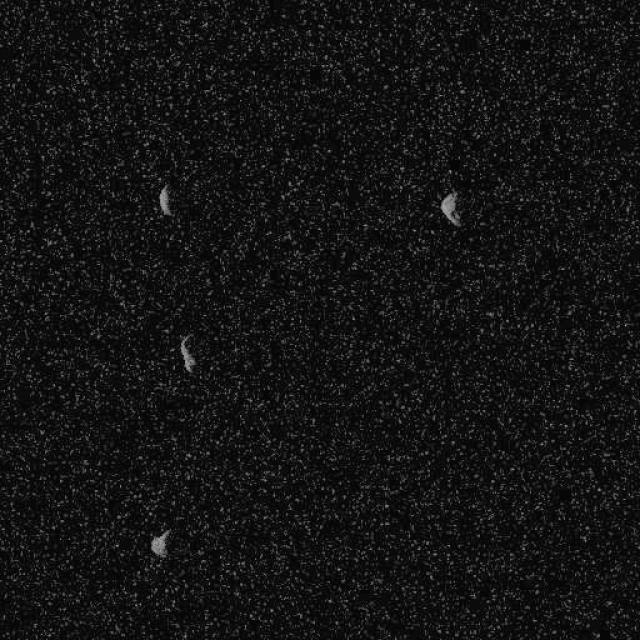D2: (438, 190, 462, 226), (179, 333, 196, 372), (149, 528, 171, 558), (158, 182, 174, 216)
